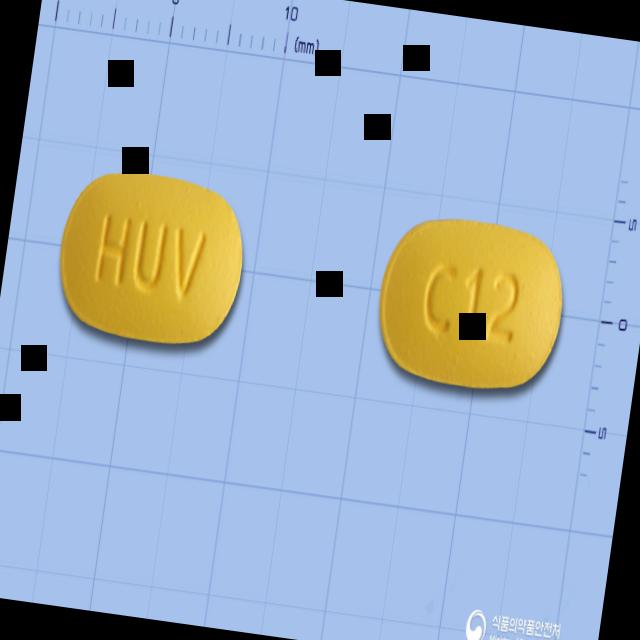Cefixime Cap- Withus: (48, 160, 255, 356), (371, 208, 574, 401)
